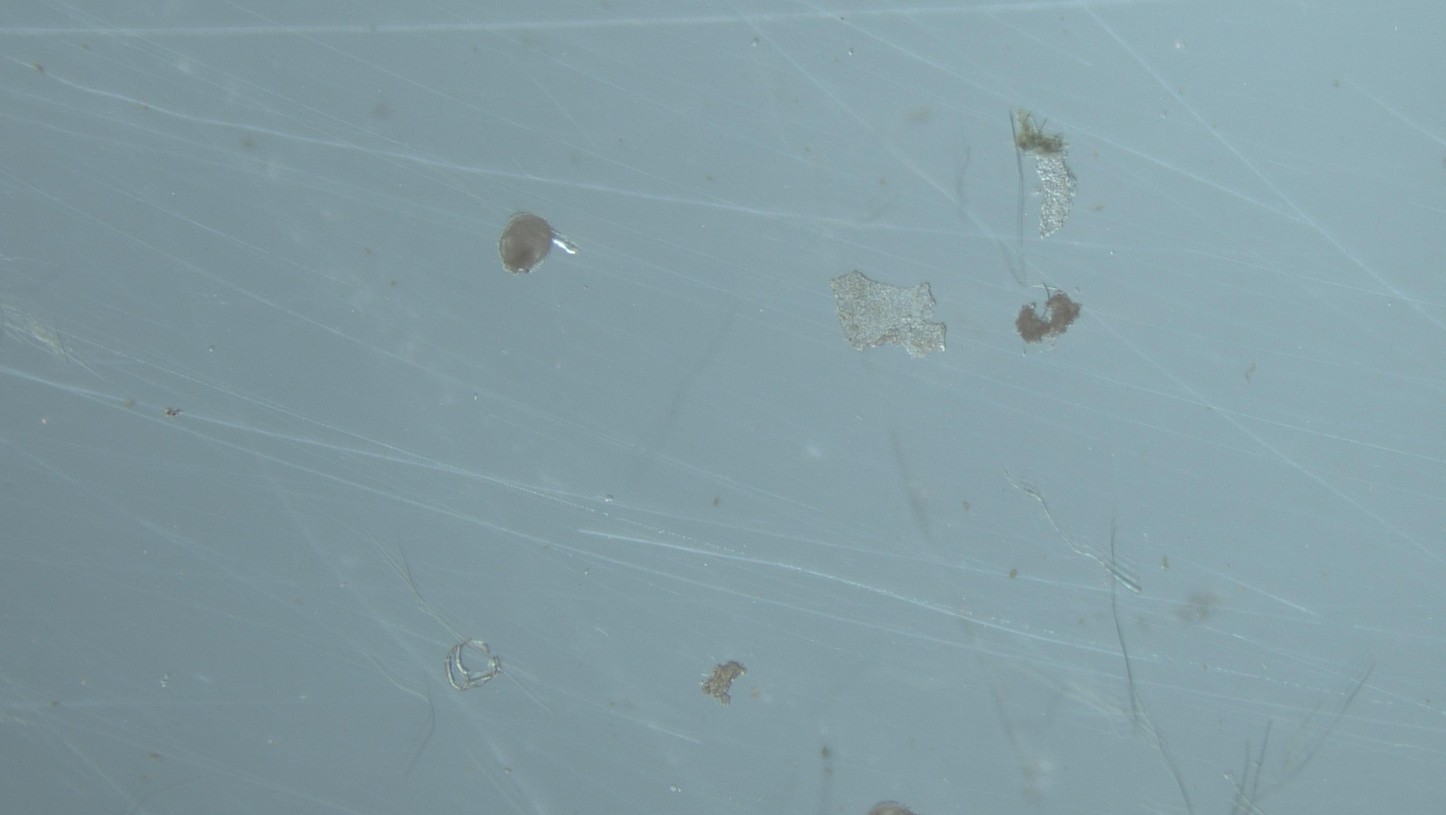live: (498, 213, 579, 275)
